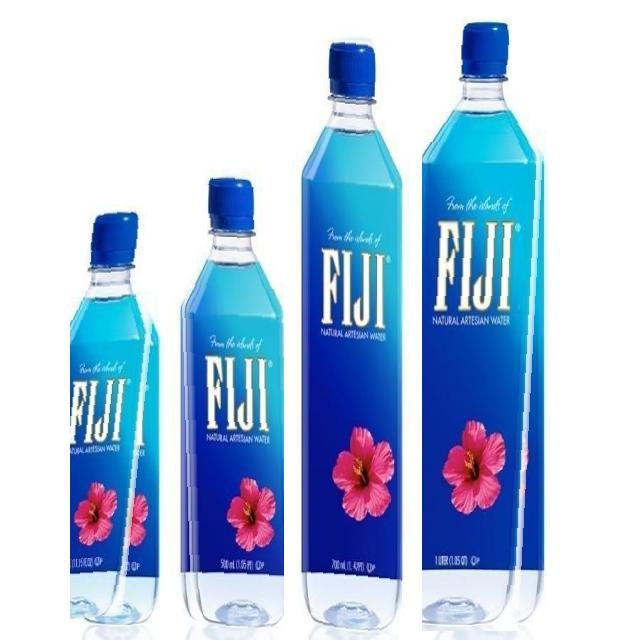plastic bottle: (422, 16, 550, 631), (294, 29, 409, 635), (178, 166, 284, 628), (70, 210, 165, 622)
